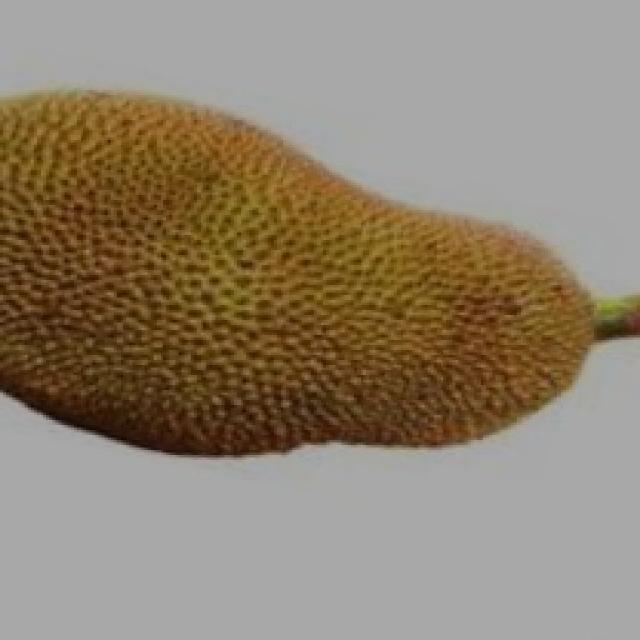Fruit: (0, 58, 406, 492), (268, 132, 624, 480)
